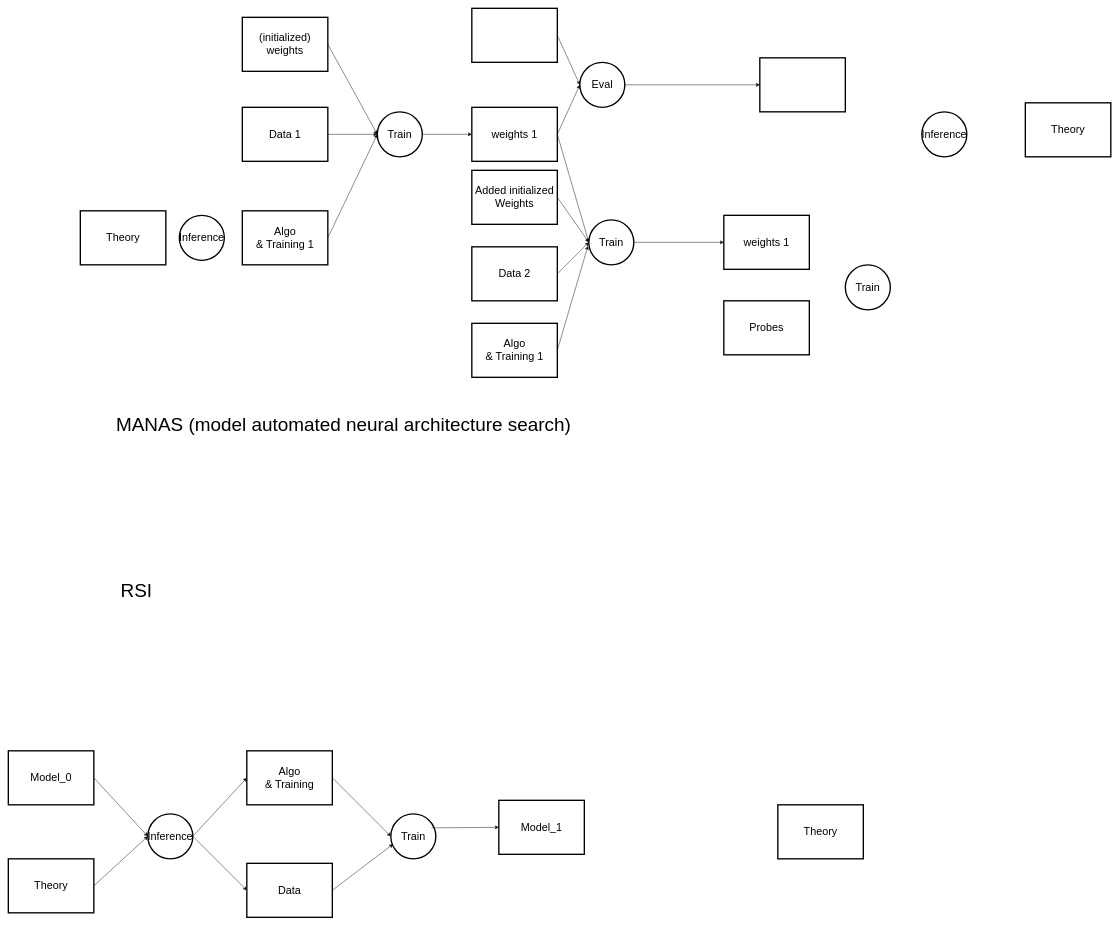
Image size: 1119x926. Some labels were removed from this diagram. The shapes that lost their labels are listed below. From the top down, each one's centre as x and y in pixels, then its label:
the point at 514,35: Bench 1 / bench suite
the point at 802,84: Result1
